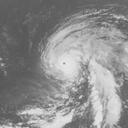cyclone: (40, 29, 92, 83)
